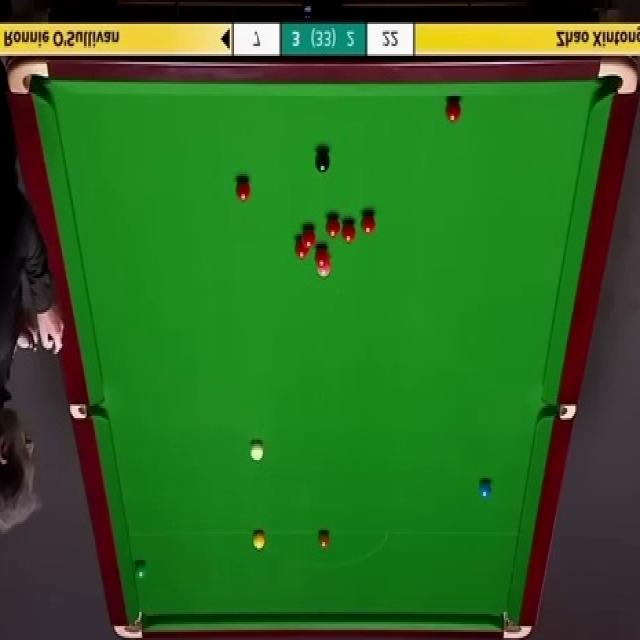pocket: (5, 58, 52, 97), (595, 58, 637, 97), (500, 608, 532, 640), (112, 611, 146, 640), (540, 403, 577, 422), (67, 405, 101, 420)
